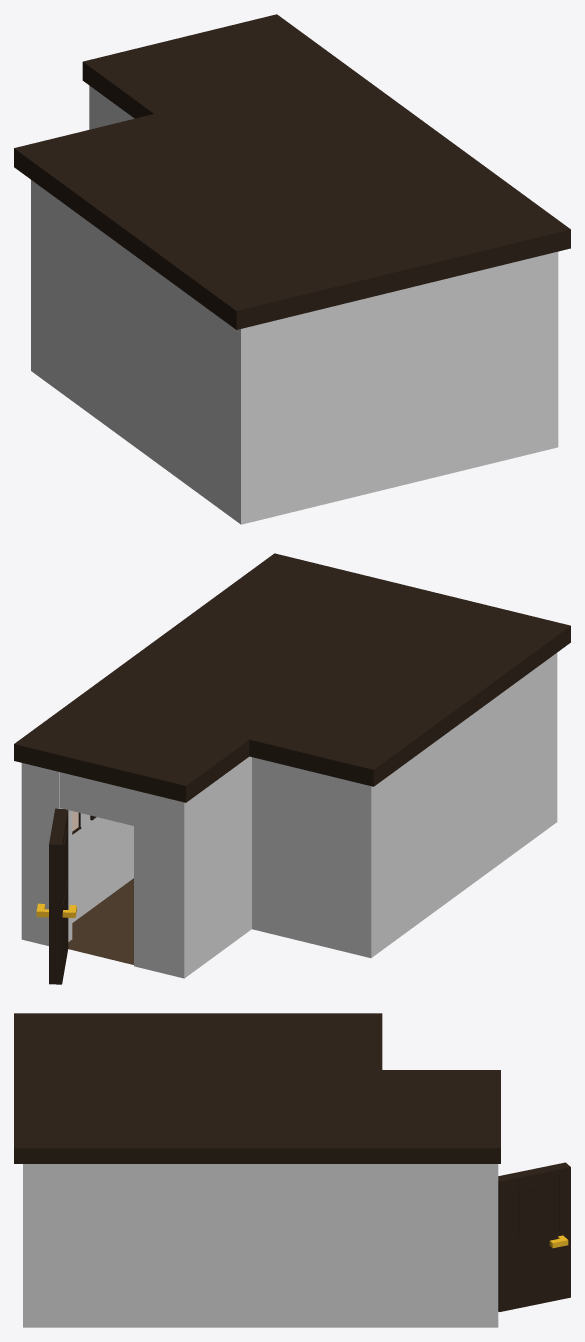
Rendered from ImagineKamer.fbx.
3 views of the same model, one above another, from view 1: azimuth 30°, elevation 25°; view 2: azimuth 150°, elevation 25°; view 3: azimuth 270°, elevation 25° (orthographic). The views are drawn at different scales.
Parts seen in each view (by area): view 1: Walls, Cube.015; view 2: Walls, Cube.015, Plane, Cube.016; view 3: Walls, Cube.015, Cube.016.
Part boxes in pixels (<box>): Walls: <box>31,85,558,524</box>; Cube.015: <box>14,14,570,329</box>; Walls: <box>21,653,557,978</box>; Cube.015: <box>14,553,570,802</box>; Plane: <box>68,878,133,964</box>; Cube.016: <box>36,808,76,984</box>; Walls: <box>23,1164,498,1327</box>; Cube.015: <box>14,1013,500,1163</box>; Cube.016: <box>498,1162,570,1311</box>.
Bounding box in the file's own units: 1583 × 999 × 2758.
